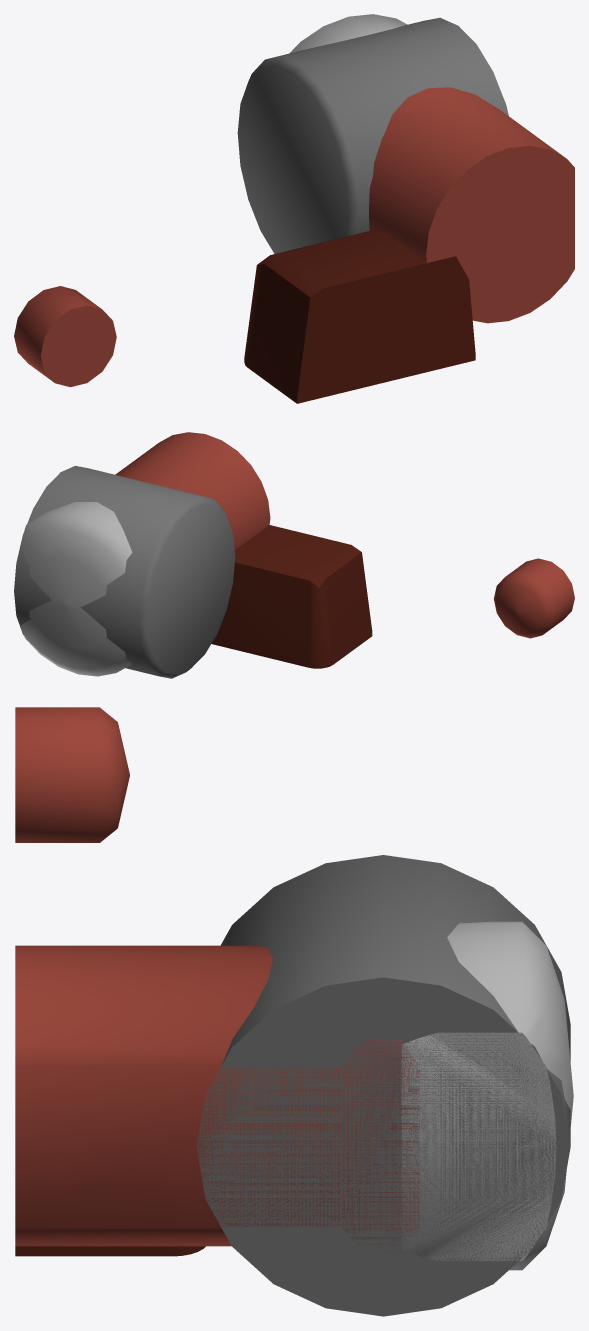
File: deli_tower_tl.glb
3 views of the same model, one above another, from view 1: azimuth 30°, elevation 25°; view 2: azimuth 150°, elevation 25°; view 3: azimuth 270°, elevation 25° (orthographic). The views are drawn at different scales.
Parts seen in each view (by area): view 1: column, cap_band, block, pipe, cap; view 2: cap_band, block, cap, column, pipe; view 3: cap_band, column, cap, pipe, block.
Boxes of the visible parts, <box> form: column: <box>369,87,574,323</box>; cap_band: <box>237,17,508,253</box>; block: <box>244,229,475,403</box>; pipe: <box>14,286,116,387</box>; cap: <box>289,14,407,53</box>; cap_band: <box>14,465,235,678</box>; block: <box>211,525,372,668</box>; cap: <box>20,502,132,676</box>; column: <box>115,432,270,549</box>; pipe: <box>494,558,574,638</box>; cap_band: <box>196,855,570,1316</box>; column: <box>15,945,419,1253</box>; cap: <box>401,921,573,1270</box>; pipe: <box>15,707,129,842</box>; block: <box>15,1246,205,1256</box>.
Bounding box in the file's own units: 16.15 × 6.5 × 9.25.
